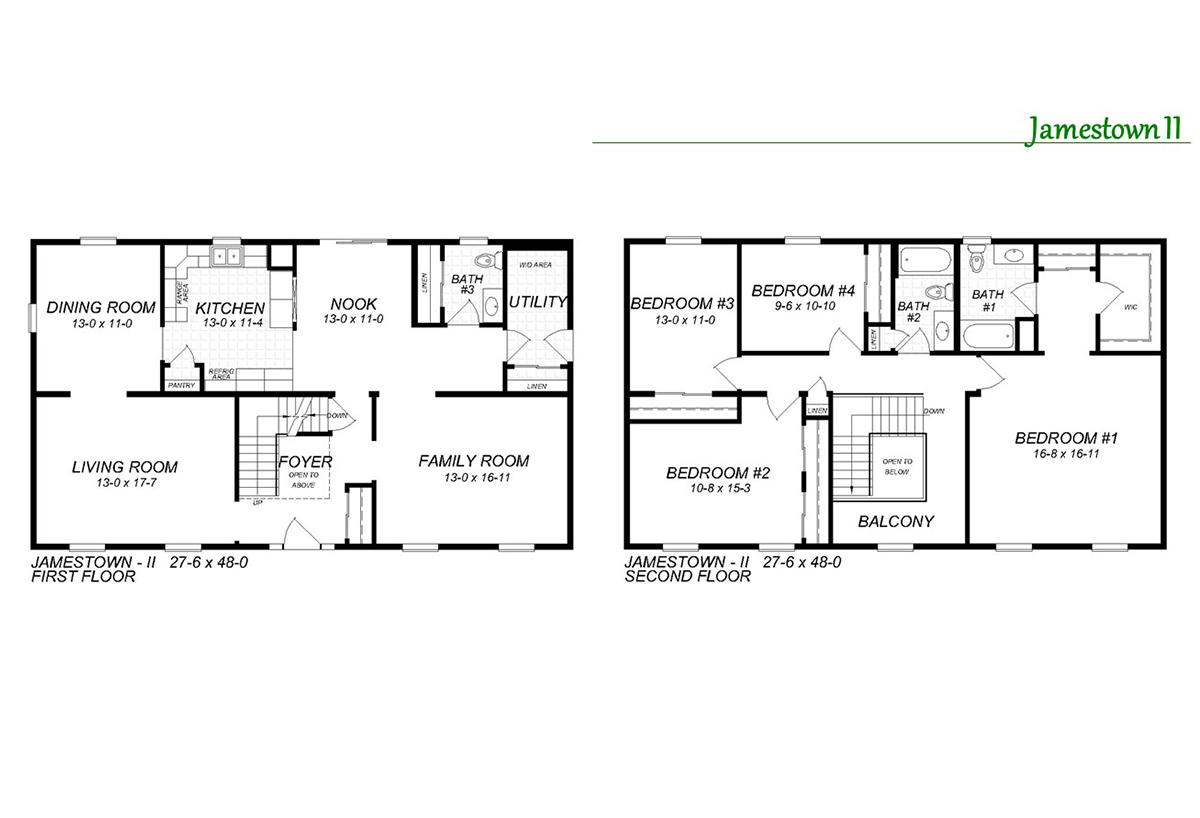room: (969, 353, 1163, 547), (32, 395, 237, 547), (376, 392, 570, 545), (628, 392, 804, 547), (161, 240, 295, 394), (33, 241, 162, 394), (627, 241, 740, 394), (739, 241, 867, 353), (867, 241, 958, 352), (504, 243, 569, 394), (957, 239, 1037, 353), (1098, 243, 1162, 353), (442, 244, 504, 326)
